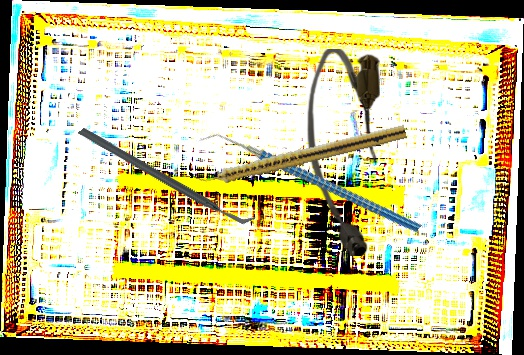Cannula: (306, 49, 380, 256)
Chopper: (197, 72, 423, 295), (75, 77, 258, 274)
Handpiece: (193, 120, 408, 191)
